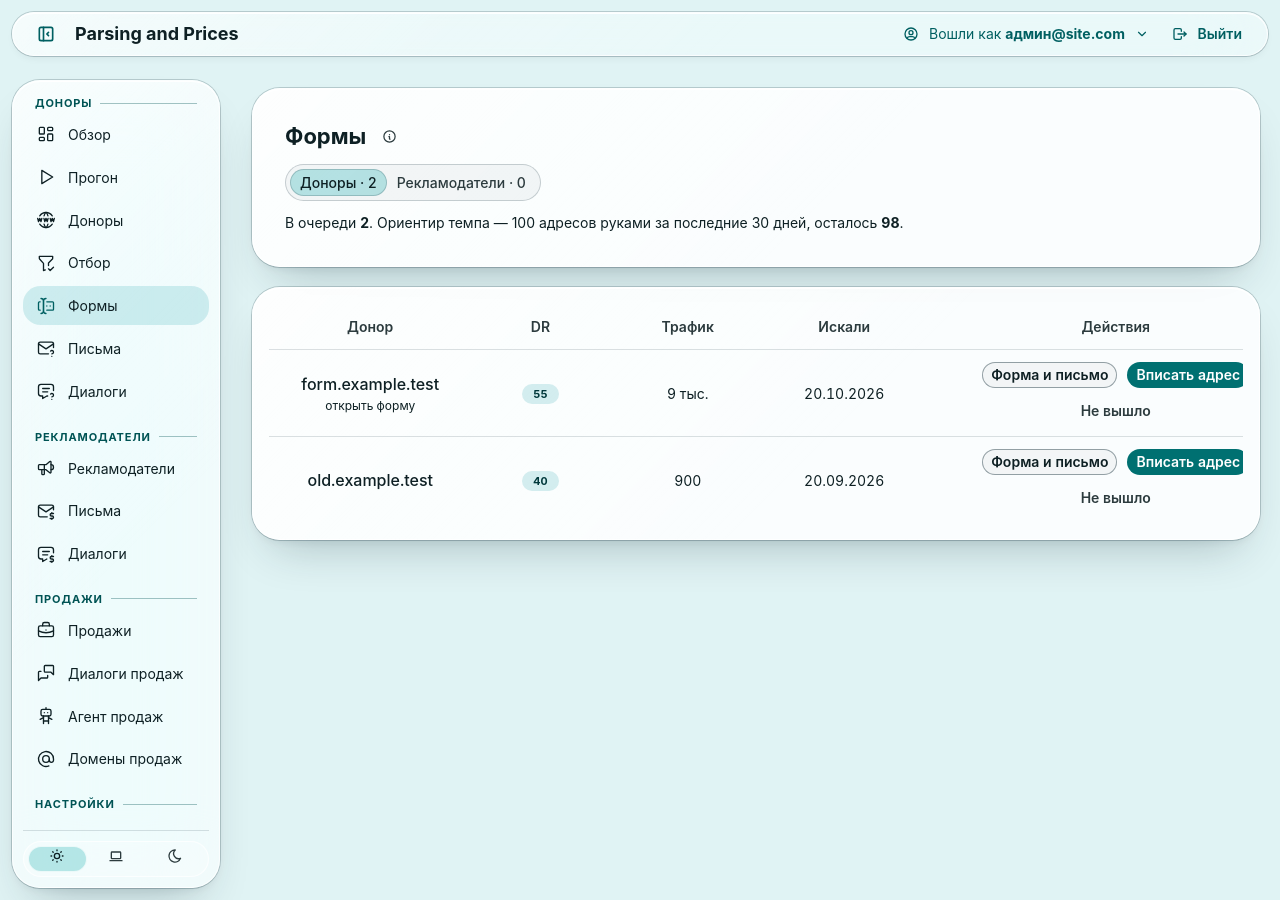
Test case: «Формы»: окно «Форма и письмо» › метка незаполненной настройки в тексте — предупреждением
The width and height of the screenshot is (1280, 900).
Expected: the link "form.example.test" is shown, left=301, top=372, right=439, bottom=396
Click the button "Форма и письмо" in the row of "form" at (1050, 376), box left=982, top=362, right=1117, bottom=388
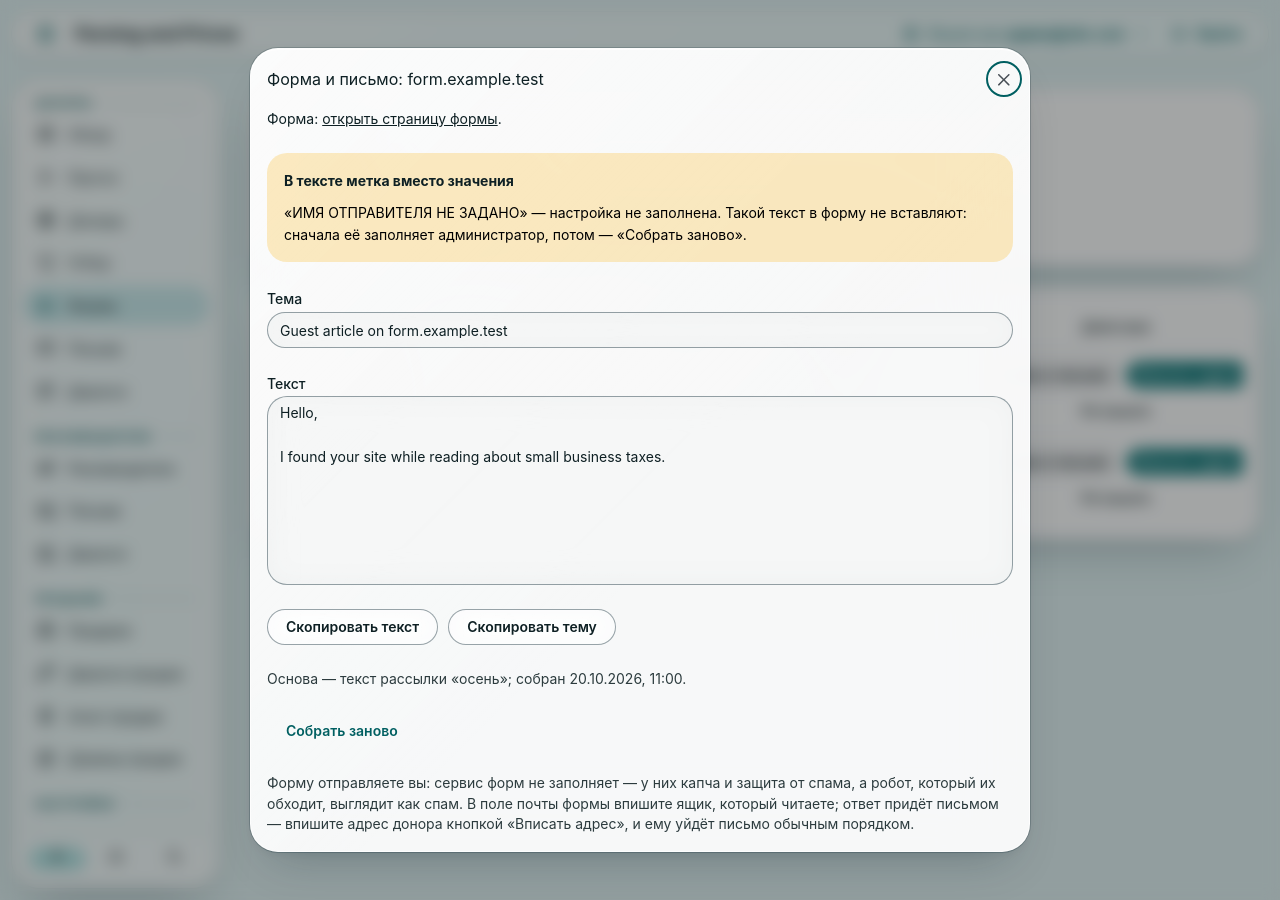
Expected: the text "«ИМЯ ОТПРАВИТЕЛЯ НЕ ЗАДАНО» — настройка не заполнена" is shown, left=284, top=202, right=996, bottom=246
